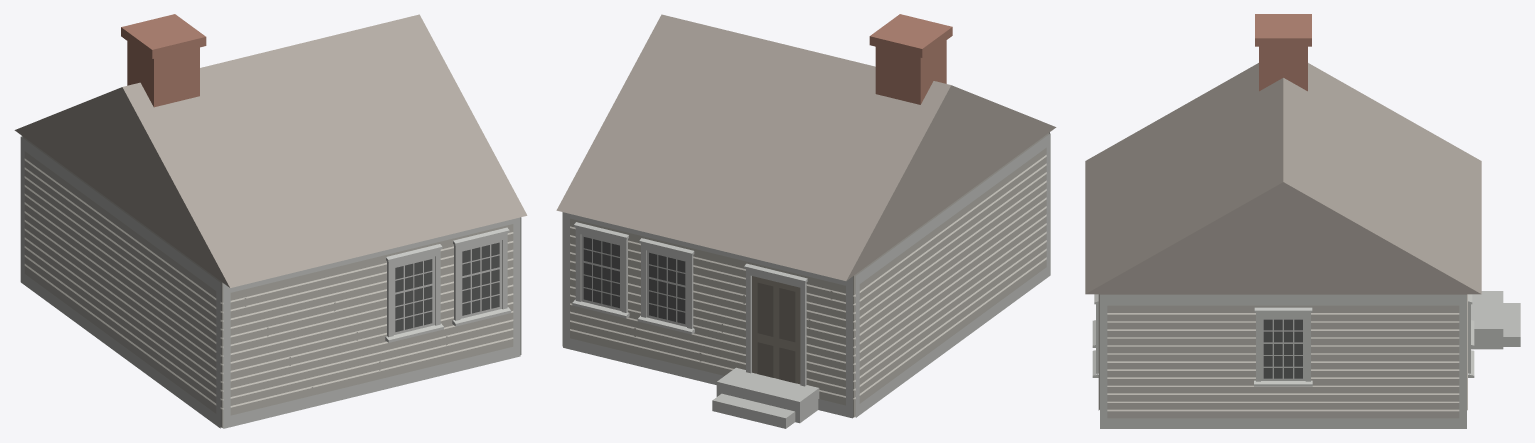
File: recon_1835_north_d3_042__inferred_1835.glb
The picture shows the model from 3 angles, left to right: view 1: azimuth 30°, elevation 25°; view 2: azimuth 150°, elevation 25°; view 3: azimuth 270°, elevation 25°; orthographic projection. The views are drawn at different scales.
Visible parts, largest first — view 1: recon_1835_north_d3_042__inferred_1835; view 2: recon_1835_north_d3_042__inferred_1835; view 3: recon_1835_north_d3_042__inferred_1835.
Part boxes in pixels (x1,y1,x2,y2): recon_1835_north_d3_042__inferred_1835: [14, 14, 527, 428]; recon_1835_north_d3_042__inferred_1835: [556, 14, 1056, 428]; recon_1835_north_d3_042__inferred_1835: [1085, 14, 1520, 428].
Bounding box in the file's own units: 5.56 × 5.43 × 7.46.
